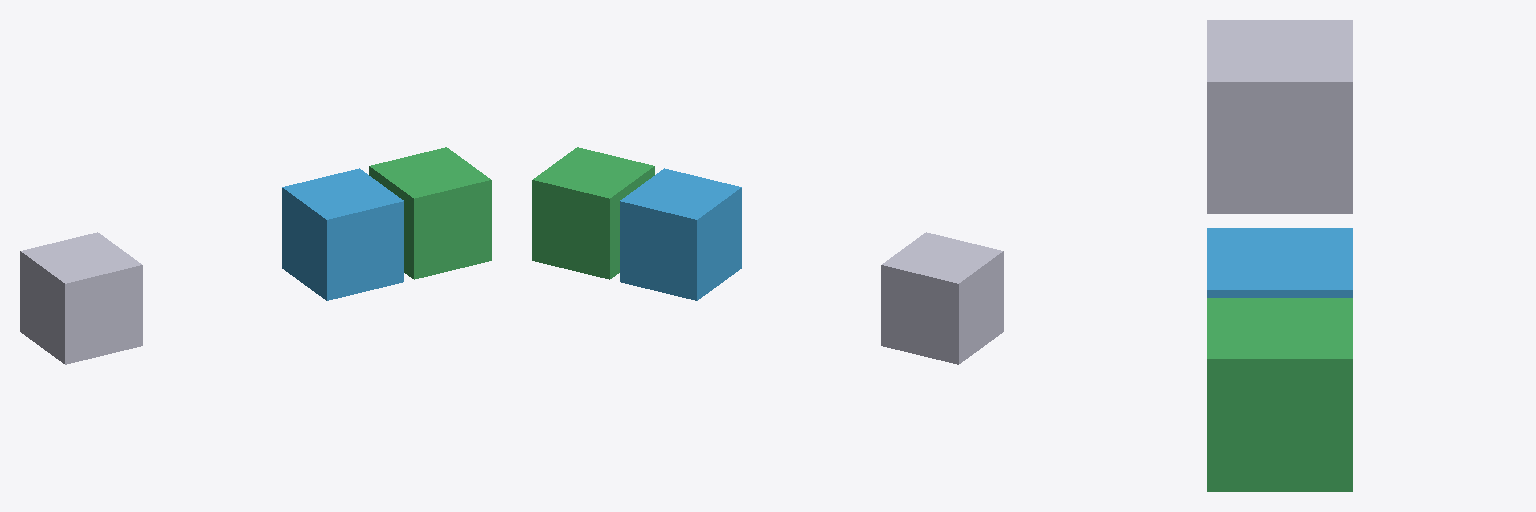
URDF robot description (mesh_formats_demo):
<?xml version="1.0"?>
<!--
  Mesh-format coverage sample (generated, not downloaded): the same 0.4 m cube exported once per
  mesh format the importer can parse, so a single run proves which formats Assimp resolves for us.

    base_link  → cube.stl    (STL   : geometry only, no material in the file)
    obj_cube   → cube.obj    (OBJ   : + cube.mtl, the material is looked up next to the .obj)
    dae_cube   → cube.dae    (COLLADA: geometry + effect/material in one file)
    gltf_cube  → cube.gltf   (glTF 2.0: single file, buffer embedded as a base64 data URI)
    ply_cube   → cube.ply    (PLY   : ascii vertices + a face list — a *mesh*, not a point cloud)

  The five cubes are chained with fixed joints (0.45 m apart) because the robot tree requires
  exactly one root link — every link has to hang off the root by a joint to be drawn.
  Mesh files live in the package root (`meshes/` next to this file), which is what the URDF
  `package://` convention expects: package://<name>/meshes/<file> → <folder of this urdf>/meshes/<file>.
-->
<robot name="mesh_formats_demo">

  <!-- Robot-level material definitions referenced by name from the visuals below. -->
  <material name="stl_color"><color rgba="0.82 0.82 0.88 1"/></material>
  <material name="dae_color"><color rgba="0.35 0.75 0.45 1"/></material>
  <material name="gltf_color"><color rgba="0.85 0.30 0.75 1"/></material>
  <material name="ply_color"><color rgba="0.95 0.75 0.25 1"/></material>

  <!-- 1) STL -->
  <link name="base_link">
    <visual>
      <origin xyz="-0.9 0 0.2" rpy="0 0 0"/>
      <geometry><mesh filename="package://formats_pkg/meshes/cube.stl"/></geometry>
      <material name="stl_color"/>
    </visual>
  </link>

  <!-- 2) OBJ + MTL (its own diffuse colour comes from cube.mtl) -->
  <link name="obj_cube">
    <visual>
      <origin xyz="0 0 0.2" rpy="0 0 0"/>
      <geometry><mesh filename="package://formats_pkg/meshes/cube.obj"/></geometry>
    </visual>
  </link>

  <!-- 3) COLLADA / DAE -->
  <link name="dae_cube">
    <visual>
      <origin xyz="0 0 0.2" rpy="0 0 0"/>
      <geometry><mesh filename="package://formats_pkg/meshes/cube.dae"/></geometry>
      <material name="dae_color"/>
    </visual>
  </link>

  <!-- 4) glTF 2.0 -->
  <link name="gltf_cube">
    <visual>
      <origin xyz="0 0 0.2" rpy="0 0 0"/>
      <geometry><mesh filename="package://formats_pkg/meshes/cube.gltf"/></geometry>
      <material name="gltf_color"/>
    </visual>
  </link>

  <!-- 5) PLY (mesh) -->
  <link name="ply_cube">
    <visual>
      <origin xyz="0 0 0.2" rpy="0 0 0"/>
      <geometry><mesh filename="package://formats_pkg/meshes/cube.ply"/></geometry>
      <material name="ply_color"/>
    </visual>
  </link>

  <!-- Chain: base_link - obj_cube - dae_cube - gltf_cube - ply_cube, 0.45 m apart along +X. -->
  <joint name="base_to_obj" type="fixed">
    <parent link="base_link"/>
    <child link="obj_cube"/>
    <origin xyz="0.45 0 0" rpy="0 0 0"/>
  </joint>

  <joint name="obj_to_dae" type="fixed">
    <parent link="obj_cube"/>
    <child link="dae_cube"/>
    <origin xyz="0.45 0 0" rpy="0 0 0"/>
  </joint>

  <joint name="dae_to_gltf" type="fixed">
    <parent link="dae_cube"/>
    <child link="gltf_cube"/>
    <origin xyz="0.45 0 0" rpy="0 0 0"/>
  </joint>

  <joint name="gltf_to_ply" type="fixed">
    <parent link="gltf_cube"/>
    <child link="ply_cube"/>
    <origin xyz="0.45 0 0" rpy="0 0 0"/>
  </joint>

</robot>

--- Facts derived from the render (not from the file) ---
Views: 3 orthographic renders of the robot side by side, from view 1: azimuth 30°, elevation 25°; view 2: azimuth 150°, elevation 25°; view 3: azimuth 270°, elevation 25°.
Robot: mesh_formats_demo — 5 links, 4 joints (4 fixed); root link base_link; default pose: all joints at 0.
Links seen in each view (by area): view 1: base_link, obj_cube, dae_cube; view 2: base_link, obj_cube, dae_cube; view 3: base_link, dae_cube, obj_cube.
Link boxes in pixels (bbox=[...]): base_link: bbox=[20, 232, 142, 364]; obj_cube: bbox=[282, 168, 403, 300]; dae_cube: bbox=[369, 147, 491, 279]; base_link: bbox=[881, 232, 1003, 364]; obj_cube: bbox=[620, 168, 741, 300]; dae_cube: bbox=[532, 147, 654, 279]; base_link: bbox=[1207, 20, 1352, 213]; dae_cube: bbox=[1207, 298, 1352, 491]; obj_cube: bbox=[1207, 228, 1352, 297].
Size in the robot's own frame: 2.2 by 0.4 by 0.4 metres.
3 mesh visuals loaded from 5 distinct referenced files (1 ASCII STL, 1 Collada DAE, 1 OBJ); not drawn: 2 (reference not matched to a file when rendering).
